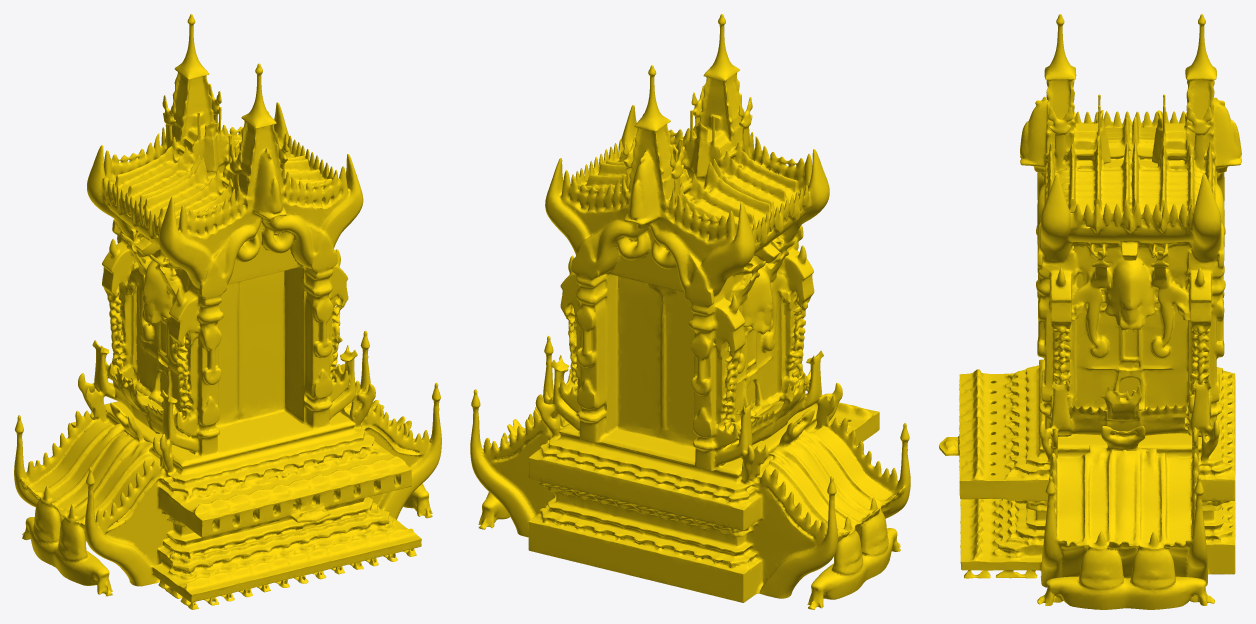
Rendered from throne.glb.
3 renders of one model, left to right at view 1: azimuth 30°, elevation 25°; view 2: azimuth 150°, elevation 25°; view 3: azimuth 270°, elevation 25°, orthographic. The views are drawn at different scales.
Visible parts, largest first — view 1: mesh; view 2: mesh; view 3: mesh.
Part boxes in pixels (<box>): mesh: <box>14,14,441,609</box>; mesh: <box>470,14,910,609</box>; mesh: <box>939,14,1241,609</box>.
Bounding box in the file's own units: 1.45 × 1.9 × 1.03.
